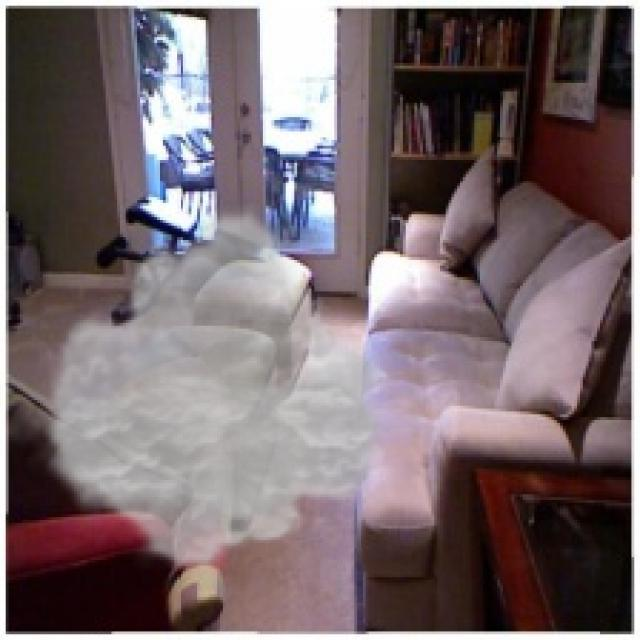Smoke: (37, 203, 392, 572)
